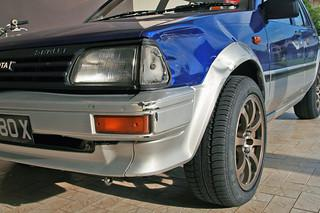fender-dent: (144, 20, 261, 79)
